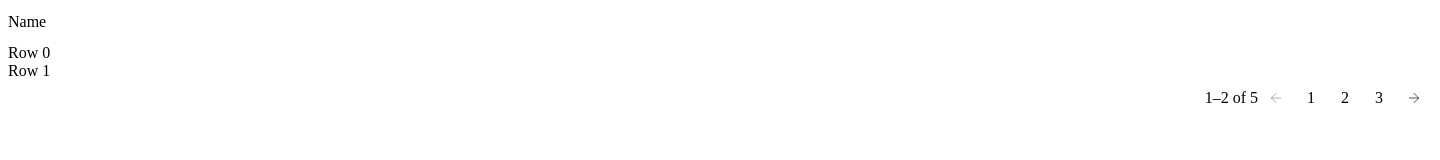
DataTable › paginates with the numbered footer and changes the visible page
Expected: the text with class "ui-pagination__range" reads "1–2 of 5", [1205, 89, 1258, 107]
Expected: the number of rows with class "ui-data-table__row" is 2, [8, 44, 1432, 62]; [8, 62, 1432, 80]
Click the button named "Next page" at (1414, 98), box [1396, 80, 1432, 116]
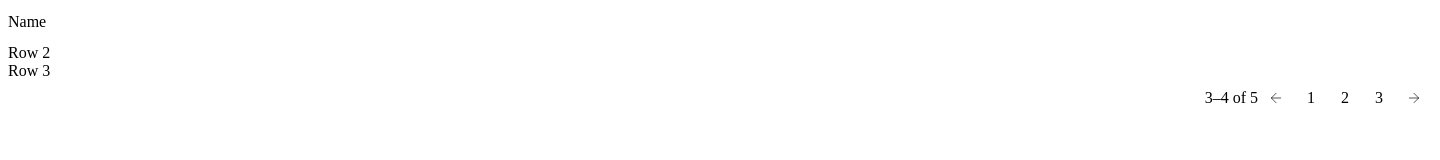
Result: the text with class "ui-pagination__range" reads "3–4 of 5" at [1205, 89, 1258, 107]
